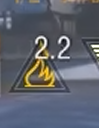1fire: (3, 63, 78, 96)
